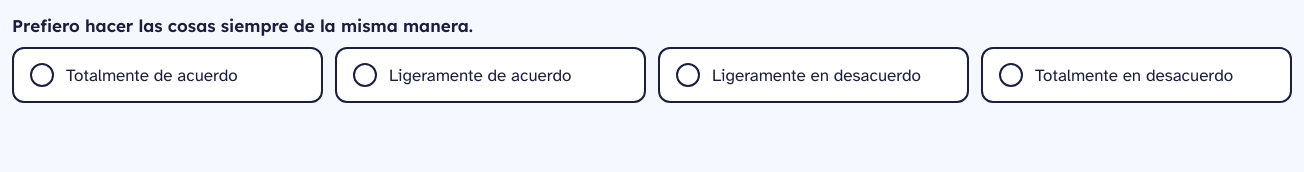
Test case: LikertScale (AQ-10) › elegir una opción llama a onChange y la marca como seleccionada
Click the radio button labelled "Ligeramente en desacuerdo". click: (814, 75)
box: left=658, top=47, right=969, bottom=103
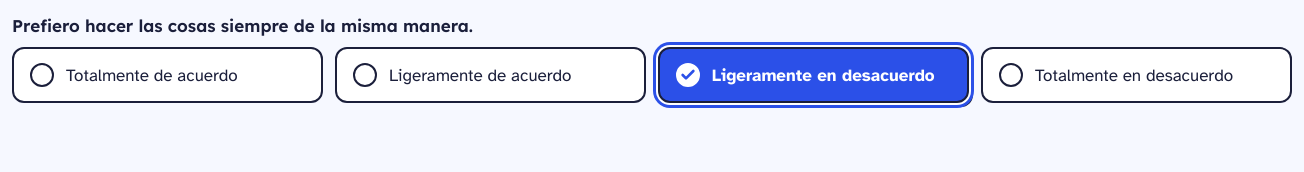
Result: the radio button labelled "Ligeramente en desacuerdo" is checked at left=658, top=47, right=969, bottom=103
